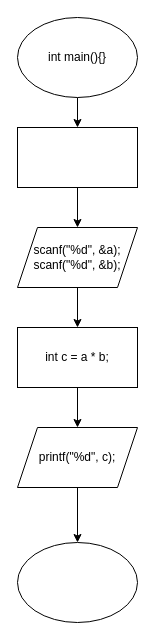
Some shapes in this 155 by 640 pixel diagram are drawn without their labels. Each missing label, with the centre of its shape:
int a = 0; int b = 0;: pixel 77 157
return 0;: pixel 77 582
